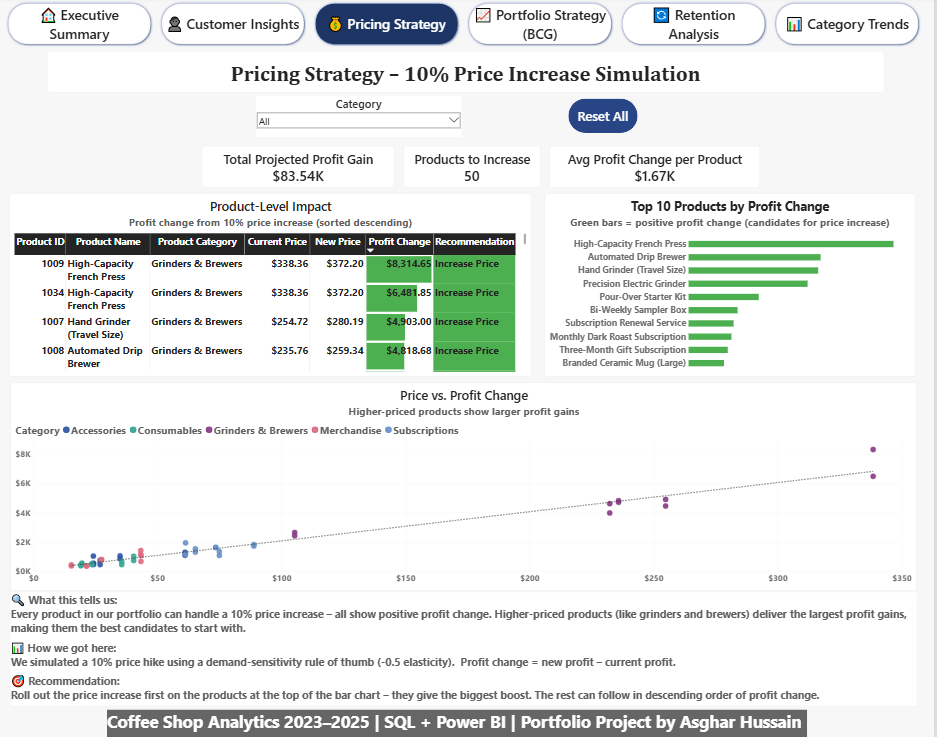

Layout of this report page (visuals, bound fields, positions):
{"tool":"powerbi","page":{"name":"💰 Pricing Strategy","canvas":[3277,2600],"ordinal":5},"visuals":[{"type":"tableEx","title":"Product‑Level Impact","fields":{"Values":["v_price_optimization.productid","v_price_optimization.productname","v_price_optimization.productcategory","v_price_optimization.current_price","v_price_optimization.new_price","v_price_optimization.profit_change","v_price_optimization.recommendation"]},"box":[43.5,689.2,1824,641],"z":0},{"type":"clusteredBarChart","title":"Top 10 Products by Profit Change","fields":{"Category":["v_price_optimization.productname"],"Y":["Sum(v_price_optimization.profit_change)"]},"box":[1915.5,689.2,1296,641],"z":1000},{"type":"card","fields":{"Values":["v_price_optimization.Dynamic Pricing Title"]},"box":[174.5,192,2928,144],"z":2000},{"type":"card","title":"Total Projected Profit Gain","fields":{"Values":["v_price_optimization.Total Profit Gain"]},"box":[715.4,523,672,144],"z":3000},{"type":"card","title":"Products to Increase","fields":{"Values":["v_price_optimization.Recommended Count"]},"box":[1419.4,523,480,144],"z":4000},{"type":"card","title":"Avg Profit Change per Product","fields":{"Values":["v_price_optimization.Avg Profit Change"]},"box":[1931.4,523,736,144],"z":5000},{"type":"slicer","title":"Category","fields":{"Values":["v_price_optimization.productcategory"]},"box":[906.3,348.3,720,144],"z":6000},{"type":"actionButton","box":[1999.3,359.5,243,121],"z":7000},{"type":"scatterChart","title":"Price vs. Profit Change","fields":{"X":["v_price_optimization.current_price"],"Y":["v_price_optimization.profit_change"],"Series":["v_price_optimization.productcategory"]},"box":[48,1349,3168,727],"z":8000},{"type":"textbox","box":[48,2087,3168,395],"z":9000},{"type":"pageNavigator","box":[32,18,3200,160],"z":10000},{"type":"textbox","box":[384,2496,2448,96],"z":11000}]}

Visuals, with their boxes in screenshot pixels (x1, y1, x2, y2), scaled from the page's 3277x2600 canvas onto the 937x737 screenshot:
"Product‑Level Impact" tableEx: detection(12, 195, 534, 377)
"Top 10 Products by Profit Change" clusteredBarChart: detection(548, 195, 918, 377)
card - v_price_optimization.Dynamic Pricing Title: detection(50, 54, 887, 95)
"Total Projected Profit Gain" card: detection(205, 148, 397, 189)
"Products to Increase" card: detection(406, 148, 543, 189)
"Avg Profit Change per Product" card: detection(552, 148, 763, 189)
"Category" slicer: detection(259, 99, 465, 140)
actionButton: detection(572, 102, 641, 136)
"Price vs. Profit Change" scatterChart: detection(14, 382, 920, 588)
textbox: detection(14, 592, 920, 704)
pageNavigator: detection(9, 5, 924, 50)
textbox: detection(110, 708, 810, 735)
